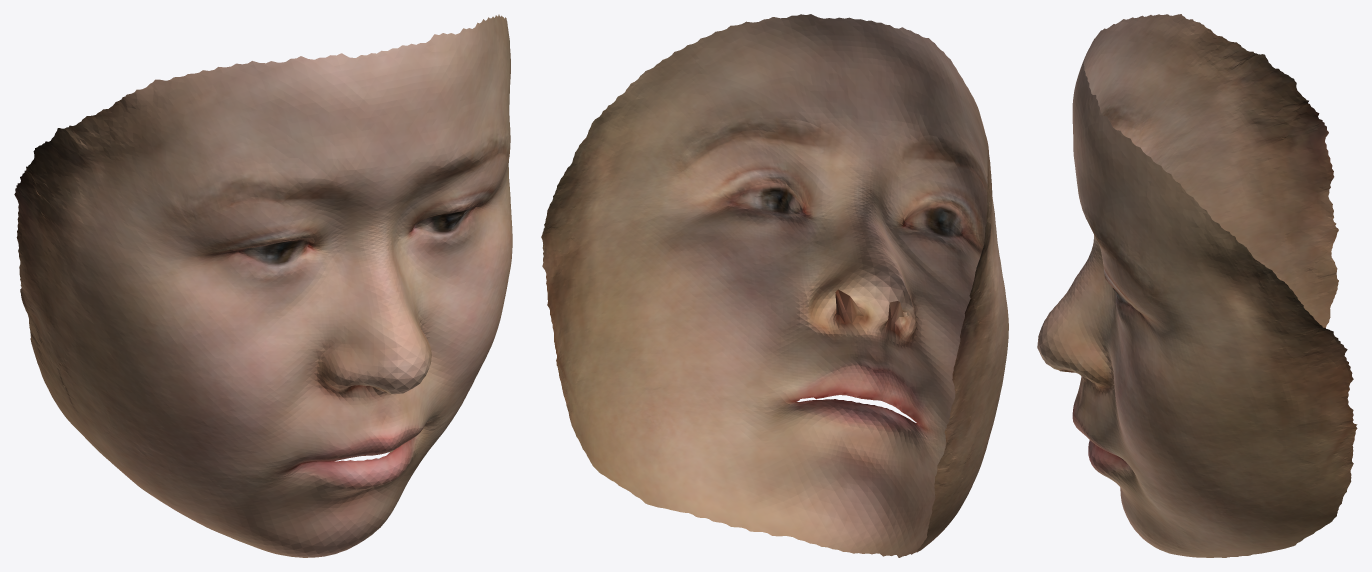
The model's file is predicted_face.obj.
3 views of the same model, side by side, from view 1: azimuth 30°, elevation 25°; view 2: azimuth 150°, elevation 25°; view 3: azimuth 270°, elevation 25° (orthographic). The views are drawn at different scales.
Bounding box in the file's own units: 1.47 × 1.66 × 0.9898.
